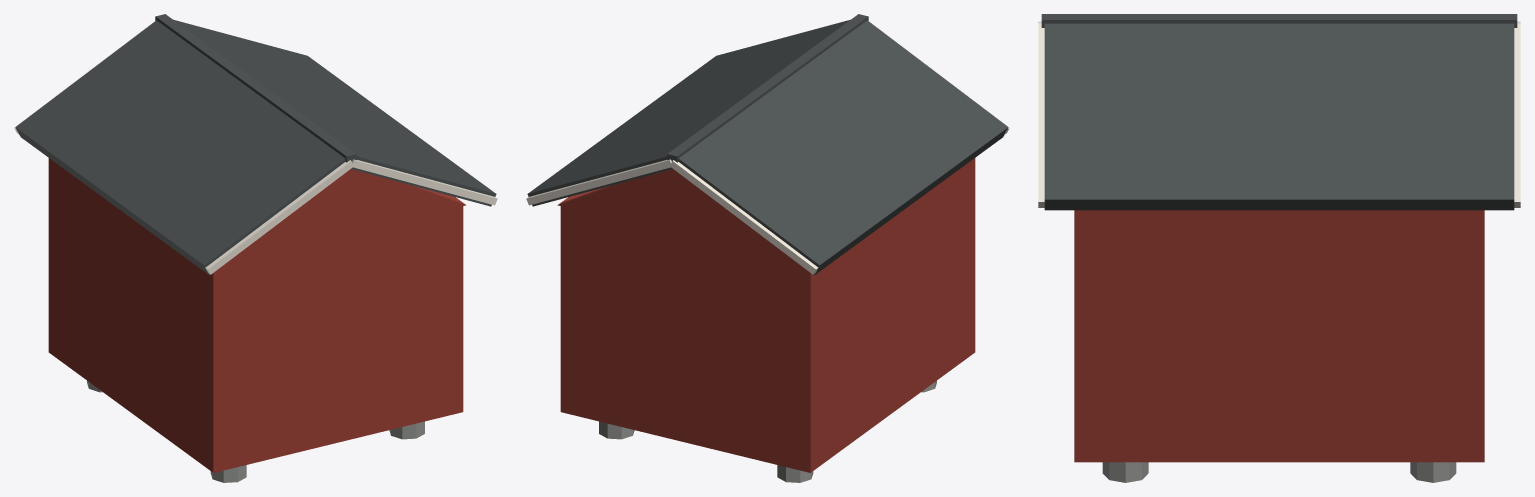
The model's file is norway-stabbur_lod1.glb.
3 renders of one model, left to right at view 1: azimuth 30°, elevation 25°; view 2: azimuth 150°, elevation 25°; view 3: azimuth 270°, elevation 25°, orthographic. The views are drawn at different scales.
Parts seen in each view (by area): view 1: RF_Stabbur_Body, RF_Stabbur_RoofA, RF_Stabbur_RoofB, RF_Stabbur_Gables, RF_Stabbur_RidgeCap, RF_Stabbur_VergeLeftFront, RF_Stabbur_VergeRightFront; view 2: RF_Stabbur_Body, RF_Stabbur_RoofA, RF_Stabbur_RoofB, RF_Stabbur_Gables, RF_Stabbur_RidgeCap, RF_Stabbur_VergeLeftRear, RF_Stabbur_VergeRightRear; view 3: RF_Stabbur_Body, RF_Stabbur_RoofB, RF_Stabbur_RidgeCap, RF_Stabbur_VergeRightFront, RF_Stabbur_VergeRightRear, RF_Stabbur_Post.002, RF_Stabbur_Post.003.
Part boxes in pixels (<box>): RF_Stabbur_Body: <box>48,158,463,472</box>; RF_Stabbur_RoofA: <box>15,20,345,275</box>; RF_Stabbur_RoofB: <box>173,19,496,206</box>; RF_Stabbur_Gables: <box>225,169,466,263</box>; RF_Stabbur_RidgeCap: <box>155,14,356,162</box>; RF_Stabbur_VergeLeftFront: <box>205,160,353,274</box>; RF_Stabbur_VergeRightFront: <box>352,159,497,205</box>; RF_Stabbur_Body: <box>560,158,975,472</box>; RF_Stabbur_RoofA: <box>678,20,1008,275</box>; RF_Stabbur_RoofB: <box>527,19,850,206</box>; RF_Stabbur_Gables: <box>557,169,798,263</box>; RF_Stabbur_RidgeCap: <box>667,14,868,162</box>; RF_Stabbur_VergeLeftRear: <box>670,160,818,274</box>; RF_Stabbur_VergeRightRear: <box>526,159,671,205</box>; RF_Stabbur_Body: <box>1074,210,1484,462</box>; RF_Stabbur_RoofB: <box>1044,23,1514,210</box>; RF_Stabbur_RidgeCap: <box>1041,14,1517,27</box>; RF_Stabbur_VergeRightFront: <box>1038,23,1045,207</box>; RF_Stabbur_VergeRightRear: <box>1514,23,1520,207</box>; RF_Stabbur_Post.002: <box>1102,462,1148,482</box>; RF_Stabbur_Post.003: <box>1410,462,1456,482</box>.
Bounding box in the file's own units: 8.19 × 8.65 × 9.4.
